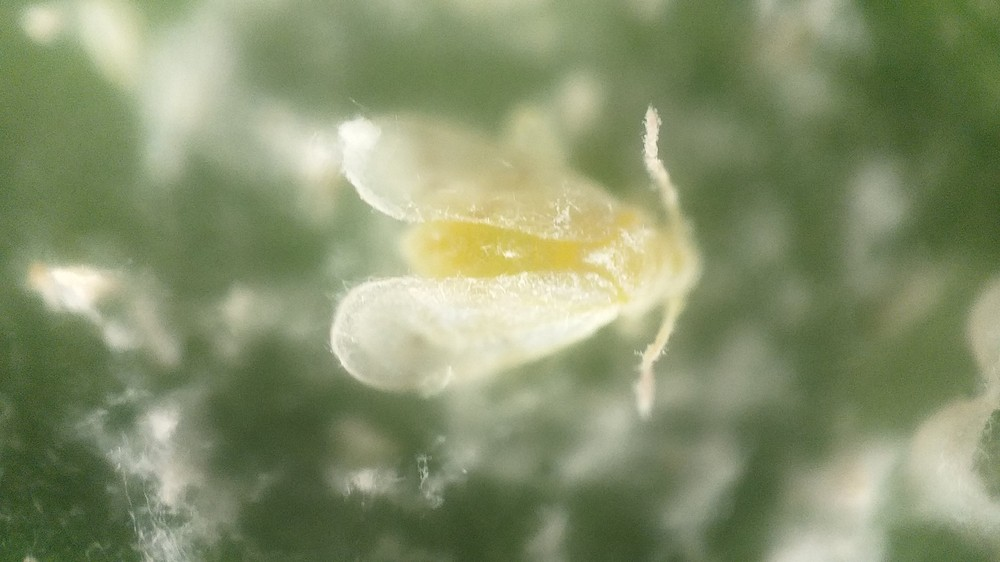Mosca Blanca: (316, 85, 707, 429)
